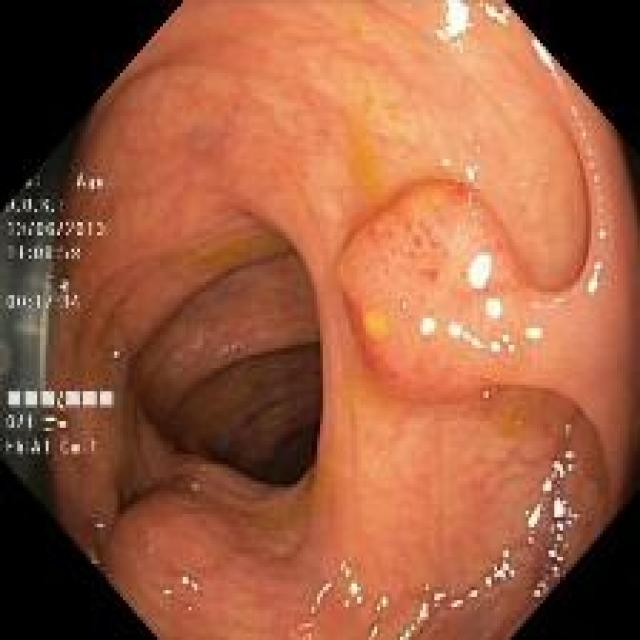Polyps: (339, 183, 529, 399)
